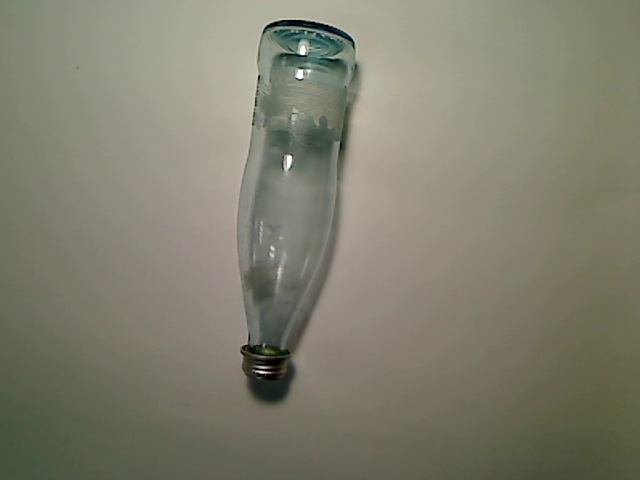bottle: (236, 20, 357, 380)
